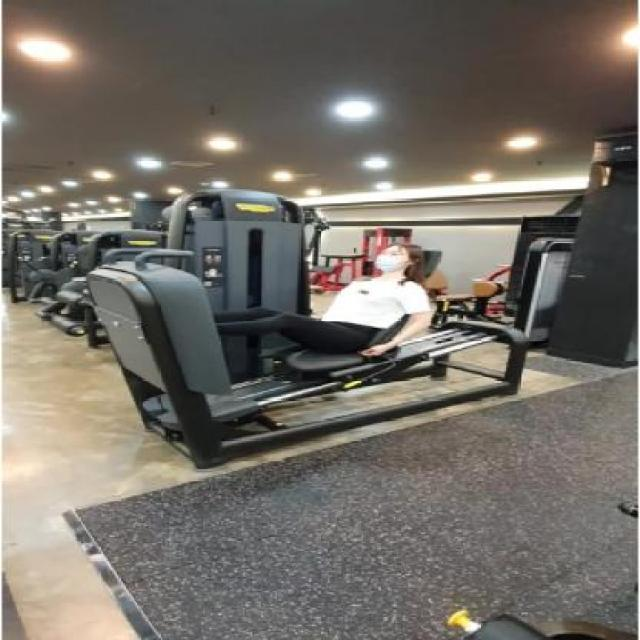leg press: (51, 181, 555, 477)
